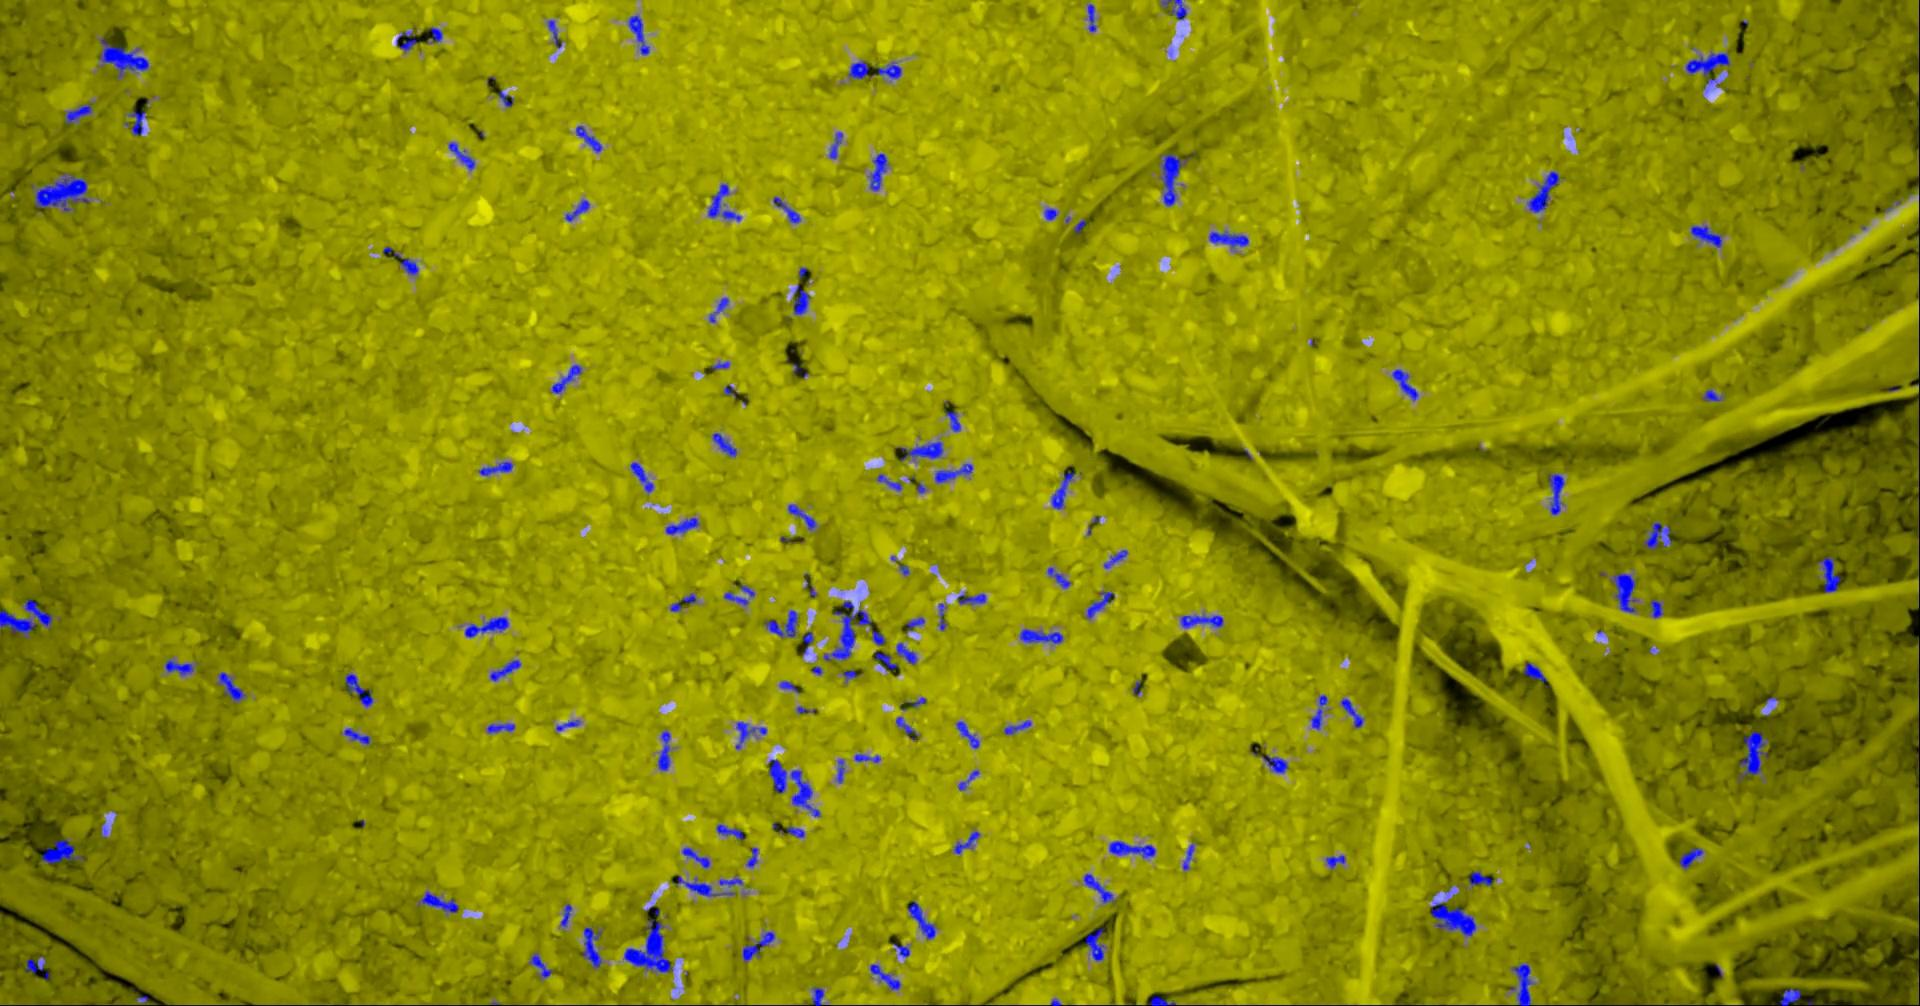ant: (823, 600, 871, 661), (768, 760, 820, 815), (98, 37, 149, 77), (1737, 730, 1768, 782), (1430, 901, 1476, 935), (1161, 152, 1189, 206), (1526, 170, 1559, 212), (670, 875, 734, 895), (707, 183, 740, 221), (1685, 52, 1730, 77), (907, 901, 935, 939), (41, 838, 84, 862), (382, 246, 418, 274), (1611, 572, 1636, 612), (343, 673, 372, 706), (742, 931, 775, 960), (0, 610, 36, 636), (1083, 873, 1115, 902), (763, 610, 797, 636), (463, 616, 508, 636), (1051, 471, 1074, 509), (551, 365, 582, 392), (1390, 370, 1418, 400), (1511, 963, 1531, 1005), (899, 441, 943, 460), (218, 671, 245, 702), (869, 963, 900, 989), (1109, 840, 1156, 857), (420, 890, 458, 912), (1086, 589, 1114, 619), (1817, 556, 1840, 592), (735, 721, 766, 748), (629, 15, 649, 55), (582, 926, 601, 968), (24, 600, 52, 627), (773, 196, 800, 224), (1547, 473, 1564, 514), (787, 503, 815, 530), (1643, 521, 1670, 549), (869, 152, 888, 191), (1208, 230, 1248, 248), (575, 124, 601, 152), (935, 464, 971, 483), (489, 659, 521, 681), (448, 142, 474, 169), (630, 462, 653, 492), (1690, 225, 1721, 246), (1018, 627, 1062, 643), (1340, 699, 1363, 727), (1084, 927, 1103, 960), (711, 432, 737, 456), (1523, 662, 1547, 687), (956, 721, 979, 748), (952, 831, 979, 854), (63, 102, 91, 123), (1180, 614, 1223, 627), (1310, 694, 1327, 729), (681, 847, 709, 868), (25, 956, 50, 979), (657, 730, 670, 770), (564, 199, 589, 221), (530, 953, 551, 978), (665, 517, 698, 533), (895, 716, 918, 739), (123, 111, 145, 135), (1260, 754, 1288, 772), (895, 641, 917, 664), (1161, 0, 1186, 19), (709, 297, 728, 323), (876, 473, 902, 492), (792, 285, 809, 314), (477, 461, 512, 475), (343, 727, 370, 744), (957, 768, 979, 790), (1048, 567, 1070, 587), (1679, 847, 1702, 868), (1103, 549, 1128, 568), (670, 593, 696, 611), (164, 659, 193, 674), (848, 60, 872, 77), (396, 30, 417, 51), (874, 652, 897, 669), (716, 824, 743, 840), (547, 19, 561, 47), (876, 62, 902, 77), (1779, 987, 1801, 1005), (828, 131, 842, 158), (1003, 720, 1030, 734), (943, 409, 960, 431), (1467, 871, 1492, 885), (723, 591, 747, 605), (957, 593, 985, 605), (905, 617, 924, 633), (778, 826, 804, 837), (559, 903, 571, 926), (555, 719, 579, 730), (497, 89, 513, 105), (488, 723, 514, 733), (1182, 843, 1192, 869), (1149, 995, 1175, 1005), (425, 27, 442, 42), (891, 942, 909, 956), (778, 680, 797, 692), (1324, 855, 1343, 868), (937, 603, 946, 630), (803, 631, 813, 654), (745, 847, 757, 868), (719, 876, 742, 887), (1650, 600, 1662, 617), (855, 753, 880, 762), (811, 986, 823, 1005), (1087, 3, 1095, 30), (871, 630, 885, 645), (1703, 389, 1721, 400), (842, 669, 860, 681), (836, 760, 844, 782), (723, 384, 737, 398), (1043, 207, 1057, 218)
